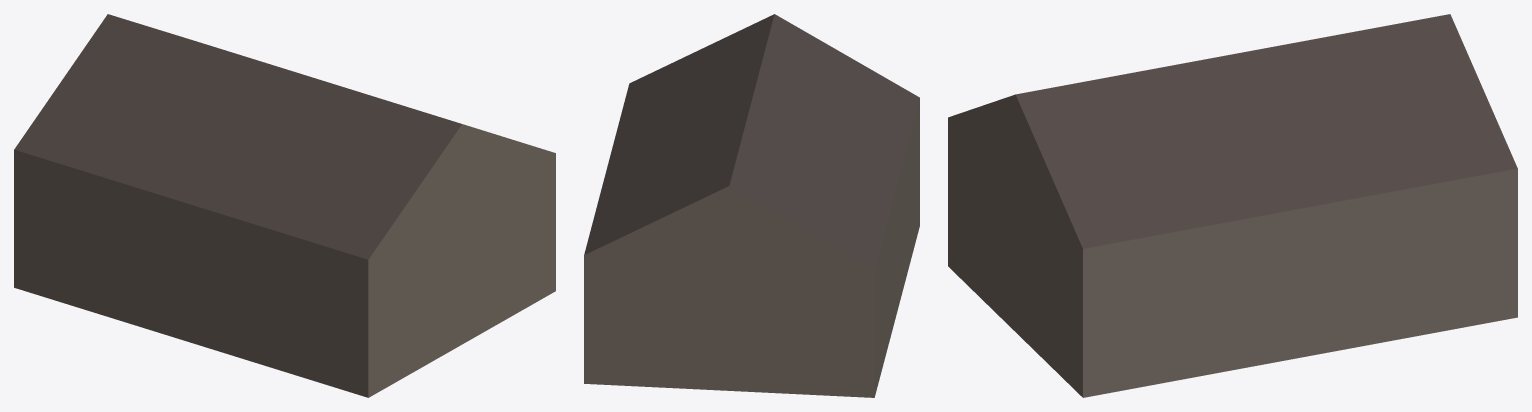
The picture shows the model from 3 angles, left to right: view 1: azimuth 30°, elevation 25°; view 2: azimuth 150°, elevation 25°; view 3: azimuth 270°, elevation 25°; orthographic projection. The views are drawn at different scales.
Visible parts, largest first — view 1: HP-w373833550; view 2: HP-w373833550; view 3: HP-w373833550.
Part boxes in pixels (x1,y1,x2,y2): HP-w373833550: (14,14,555,397); HP-w373833550: (584,14,919,397); HP-w373833550: (948,14,1517,397).
Bounding box in the file's own units: 18.3 × 9.57 × 20.79.
